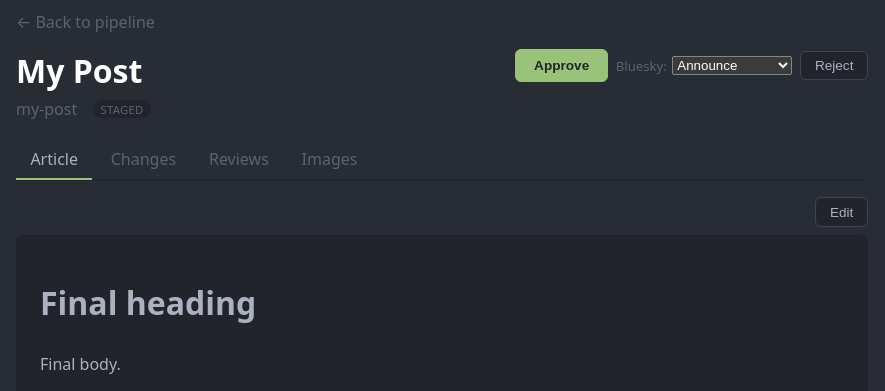
PostDetail — content › the Changes tab shows a line diff
Check: the heading "My Post" is shown, box [16,49,151,92]
What coordinates should you click on to do the following:
click the button "Changes"
I would click on:
 (144, 160)
Its box is [96,140,191,180].
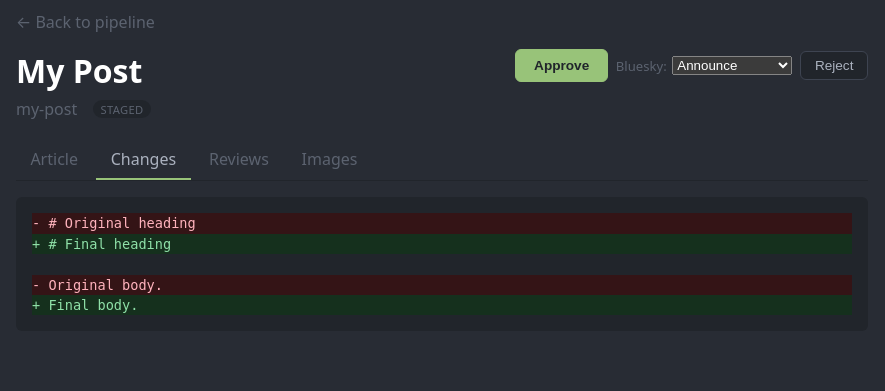
Check: the element named "Changes from the original draft" is shown, box [16,197,868,331]
